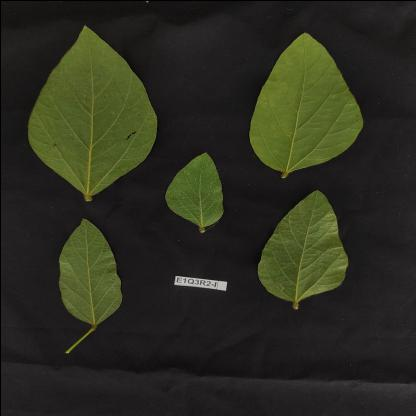label: (168, 270, 230, 293)
leaflets: (24, 15, 158, 203), (236, 24, 370, 178), (249, 191, 351, 308), (53, 214, 133, 330), (158, 144, 226, 232)
